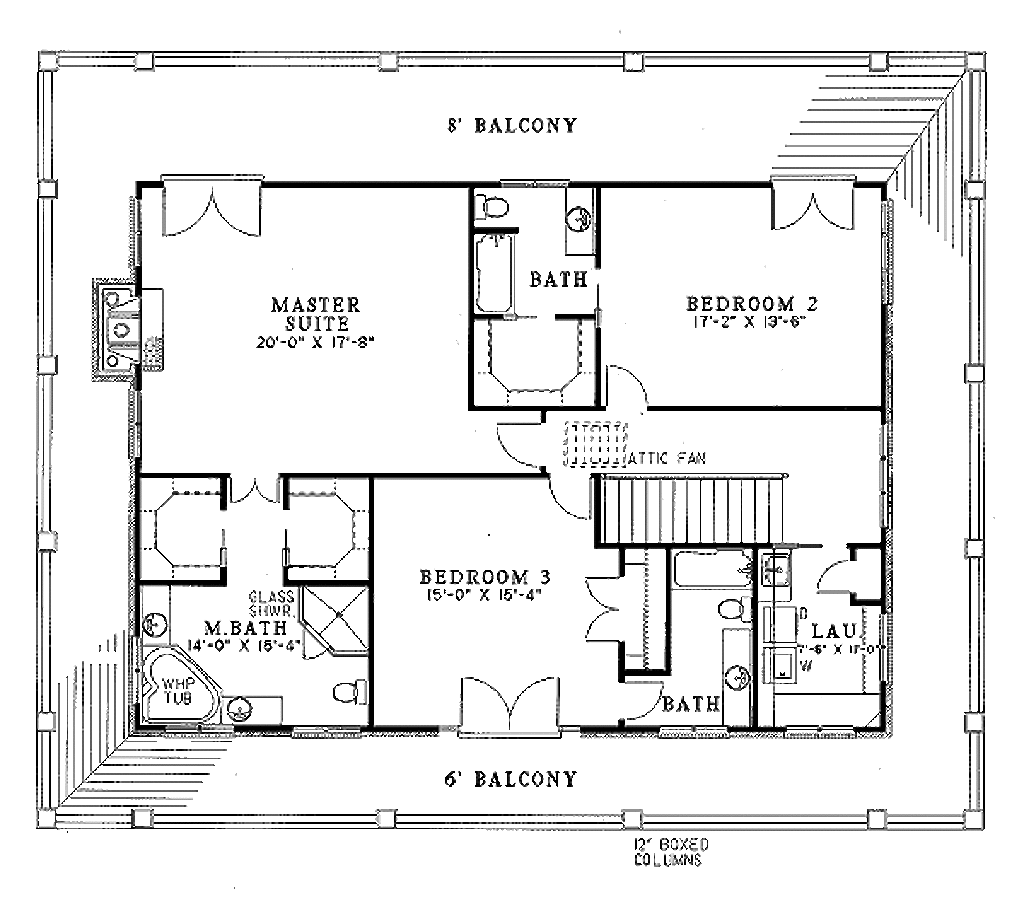door: (161, 175, 266, 240), (456, 675, 563, 735), (769, 176, 860, 236), (581, 573, 620, 646), (546, 471, 597, 523), (601, 362, 656, 410), (493, 418, 544, 469), (620, 676, 669, 722), (813, 556, 855, 605), (225, 473, 282, 507)
large_sink: (324, 676, 371, 714), (712, 592, 756, 626), (470, 193, 515, 226)
small_sink: (565, 188, 597, 258), (135, 595, 170, 648), (220, 696, 282, 724), (721, 657, 755, 703)
tub: (669, 549, 755, 590), (473, 230, 515, 310)
windows: (780, 723, 857, 743), (879, 197, 892, 315), (126, 389, 145, 467), (878, 612, 897, 683)
